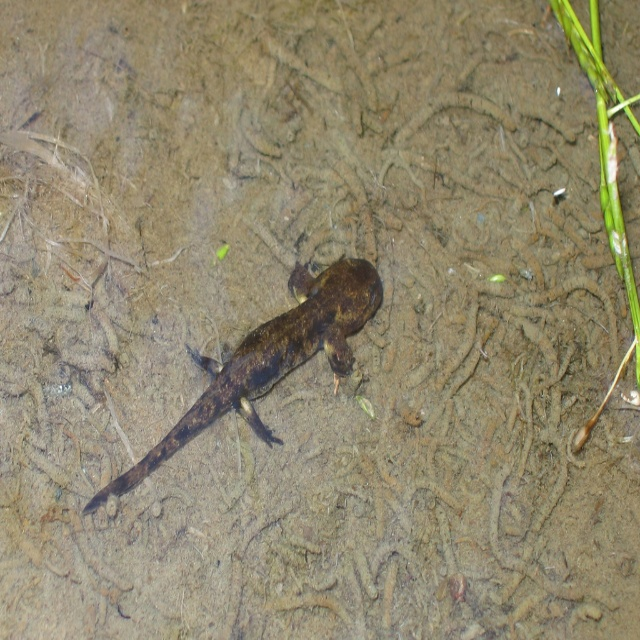Lizard: (91, 248, 382, 533)
